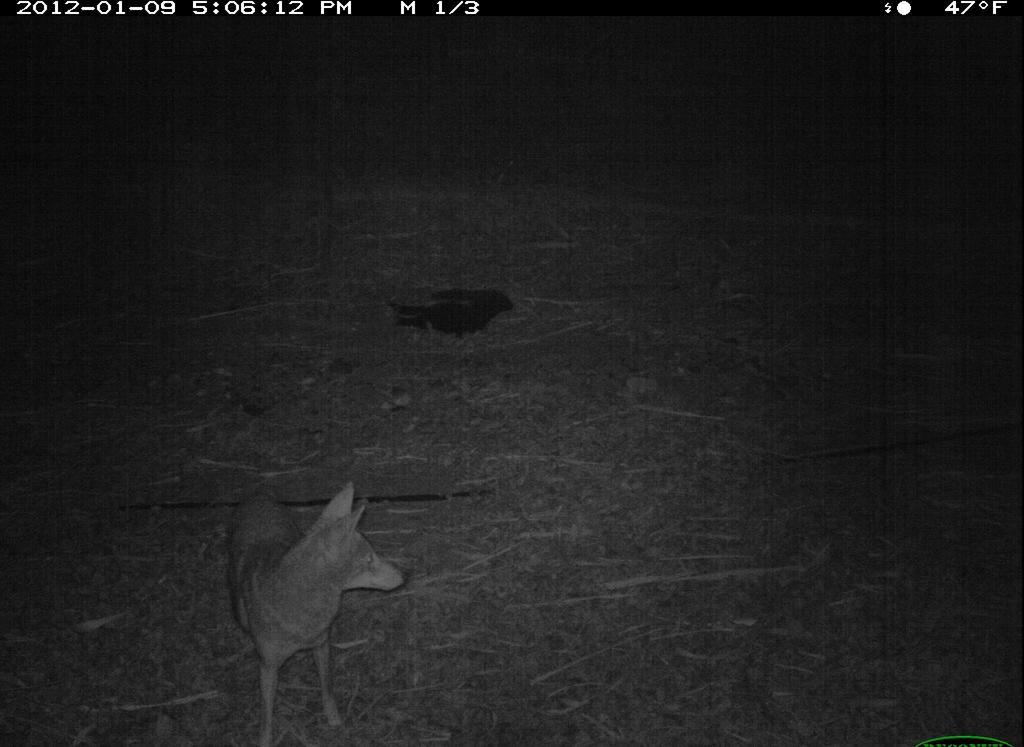coyote: (212, 466, 419, 745)
